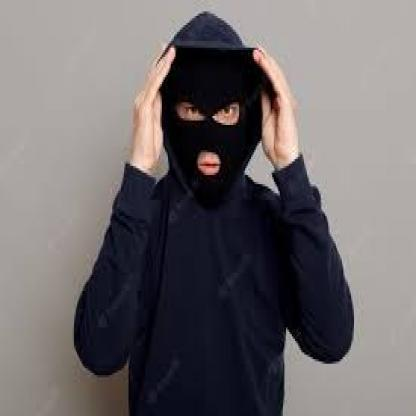criminal: (73, 11, 355, 416)
